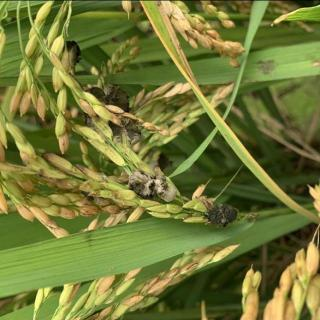Gosong-Palsu: (82, 82, 140, 138), (127, 164, 177, 203), (205, 202, 239, 228), (57, 38, 83, 68)
